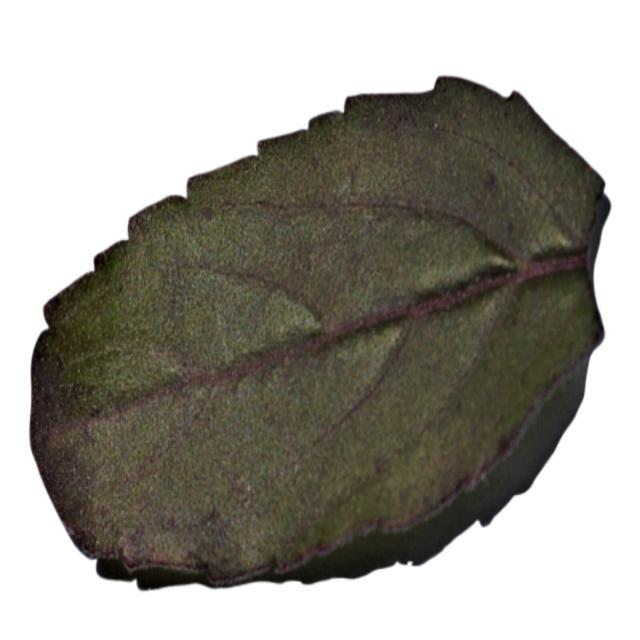tulsi: (22, 70, 610, 603)
